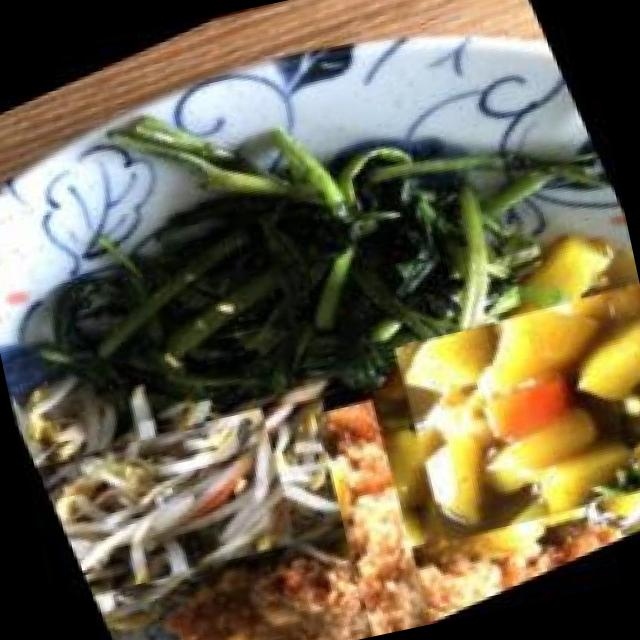curry: (351, 241, 640, 589)
fried_chicken: (219, 415, 535, 640)
mung_bean_sprouts: (23, 364, 326, 634)
water_spinach: (34, 59, 596, 510)
